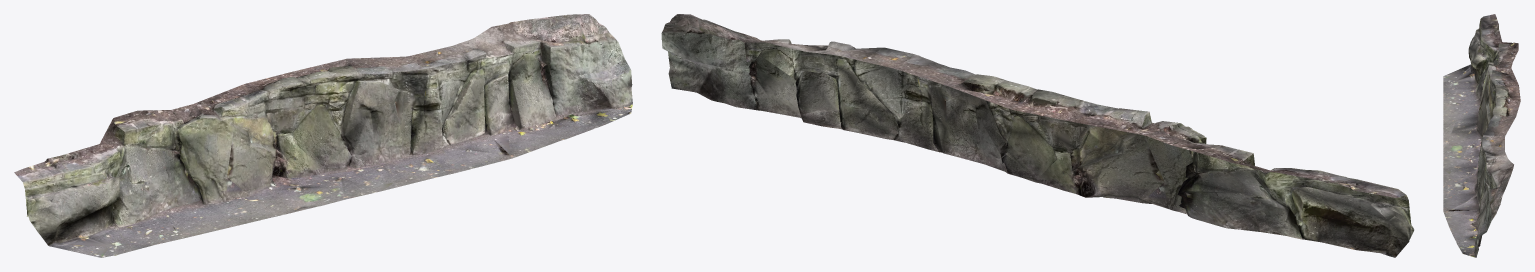
The model's file is wall3.glb.
3 renders of one model, left to right at view 1: azimuth 30°, elevation 25°; view 2: azimuth 150°, elevation 25°; view 3: azimuth 270°, elevation 25°, orthographic. The views are drawn at different scales.
Visible parts, largest first — view 1: Object_2; view 2: Object_2; view 3: Object_2.
Part boxes in pixels (x1,y1,x2,y2): Object_2: (14, 14, 632, 257); Object_2: (661, 14, 1414, 257); Object_2: (1443, 14, 1520, 257).
Bounding box in the file's own units: 9.34 × 1.33 × 1.54.
1 material, 1 textured.
